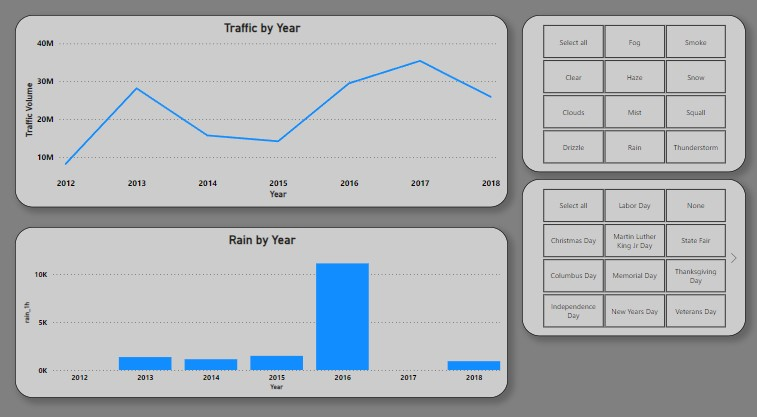

This screenshot's page, from the dashboard's own definition file:
{"tool":"powerbi","page":{"name":"Page 1","canvas":[1280,720],"ordinal":0},"visuals":[{"type":"lineChart","title":"Traffic by Year","fields":{"Category":["RIC_h8iWSRKAv4fIlgkSxA_c3d2e0d2a71d47faae8796ddef3ddef1_Metro_Interstate_Traffic.date_time.Variation.Date Hierarchy.Year","RIC_h8iWSRKAv4fIlgkSxA_c3d2e0d2a71d47faae8796ddef3ddef1_Metro_Interstate_Traffic.date_time.Variation.Date Hierarchy.Quar","RIC_h8iWSRKAv4fIlgkSxA_c3d2e0d2a71d47faae8796ddef3ddef1_Metro_Interstate_Traffic.date_time.Variation.Date Hierarchy.Mont","RIC_h8iWSRKAv4fIlgkSxA_c3d2e0d2a71d47faae8796ddef3ddef1_Metro_Interstate_Traffic.date_time.Variation.Date Hierarchy.Day"],"Y":["Sum(RIC_h8iWSRKAv4fIlgkSxA_c3d2e0d2a71d47faae8796ddef3ddef1_Metro_Interstate_Traffic.traffic_volume)"]},"box":[33.6,37,828.1,322.5],"z":0},{"type":"slicer","fields":{"Values":["RIC_h8iWSRKAv4fIlgkSxA_c3d2e0d2a71d47faae8796ddef3ddef1_Metro_Interstate_Traffic.weather_main"]},"box":[885.2,37,376.3,264],"z":1},{"type":"slicer","fields":{"Values":["RIC_h8iWSRKAv4fIlgkSxA_c3d2e0d2a71d47faae8796ddef3ddef1_Metro_Interstate_Traffic.holiday"]},"box":[885.2,312.4,376.3,263.7],"z":2},{"type":"clusteredColumnChart","title":"Rain by Year","fields":{"Y":["Sum(RIC_h8iWSRKAv4fIlgkSxA_c3d2e0d2a71d47faae8796ddef3ddef1_Metro_Interstate_Traffic.rain_1h)"],"Category":["RIC_h8iWSRKAv4fIlgkSxA_c3d2e0d2a71d47faae8796ddef3ddef1_Metro_Interstate_Traffic.date_time.Variation.Date Hierarchy.Year","RIC_h8iWSRKAv4fIlgkSxA_c3d2e0d2a71d47faae8796ddef3ddef1_Metro_Interstate_Traffic.date_time.Variation.Date Hierarchy.Quar","RIC_h8iWSRKAv4fIlgkSxA_c3d2e0d2a71d47faae8796ddef3ddef1_Metro_Interstate_Traffic.date_time.Variation.Date Hierarchy.Mont","RIC_h8iWSRKAv4fIlgkSxA_c3d2e0d2a71d47faae8796ddef3ddef1_Metro_Interstate_Traffic.date_time.Variation.Date Hierarchy.Day"]},"box":[33.6,393.1,828.1,287.2],"z":3}]}

Visuals, with their boxes in screenshot pixels (x1, y1, x2, y2), scaled from the page's 1280x720 canvas onto the 757x417 screenshot:
"Traffic by Year" lineChart: 20:21:510:208
slicer - RIC_h8iWSRKAv4fIlgkSxA_c3d2e0d2a71d47faae8796ddef3ddef1_Metro_Interstate_Traffic.weather_main: 524:21:746:174
slicer - RIC_h8iWSRKAv4fIlgkSxA_c3d2e0d2a71d47faae8796ddef3ddef1_Metro_Interstate_Traffic.holiday: 524:181:746:334
"Rain by Year" clusteredColumnChart: 20:228:510:394
